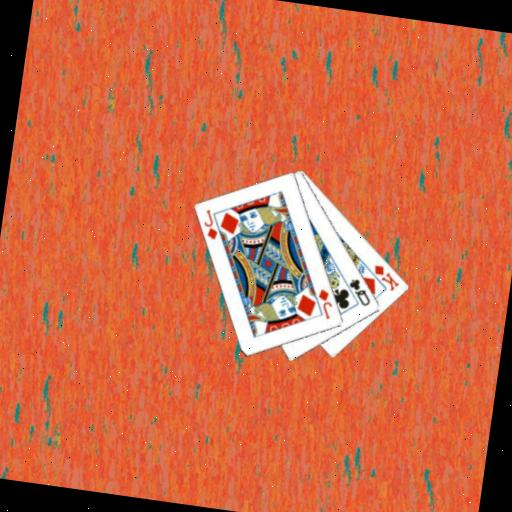JD: (199, 206, 223, 242), (313, 286, 336, 322)
KD: (369, 261, 404, 294)
QC: (344, 275, 375, 309)
